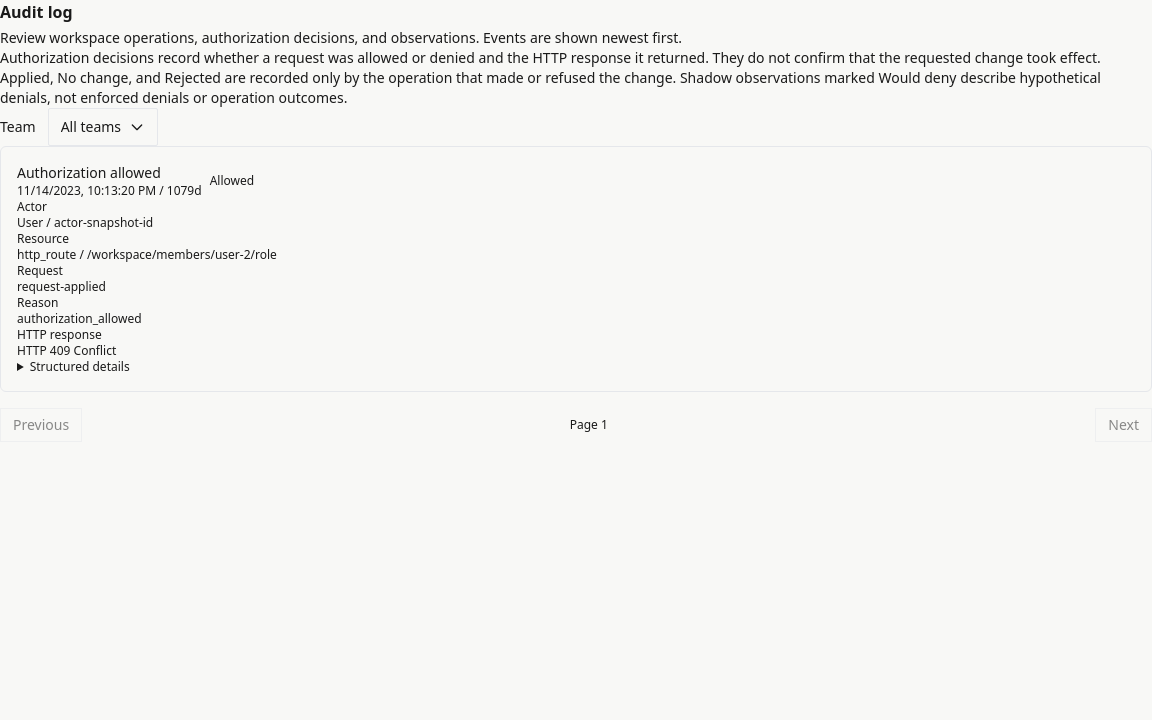
Test: AuditLogSettings › keeps the raw operation result and metadata inspectable
Click the heading "Structured details".
click(73, 367)  # box [17,359,130,375]
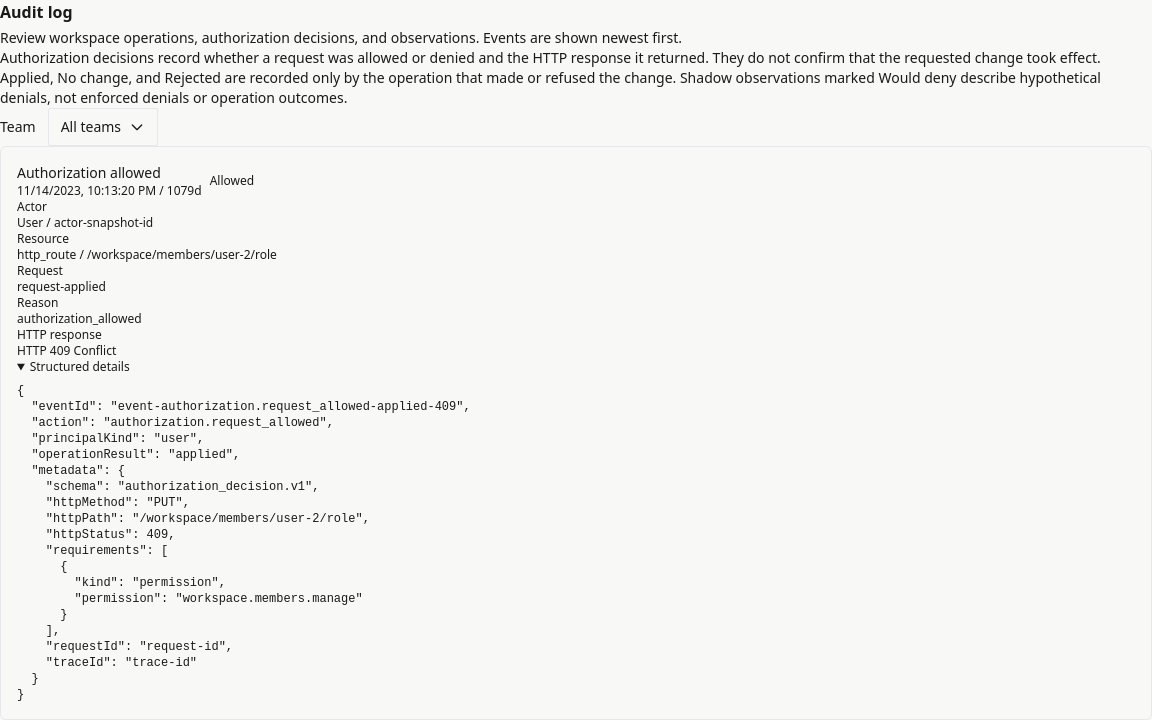
Check: the text "\"operationResult\": \"applied\"" shows "\"httpStatus\": 409", box [17,384,471,702]
